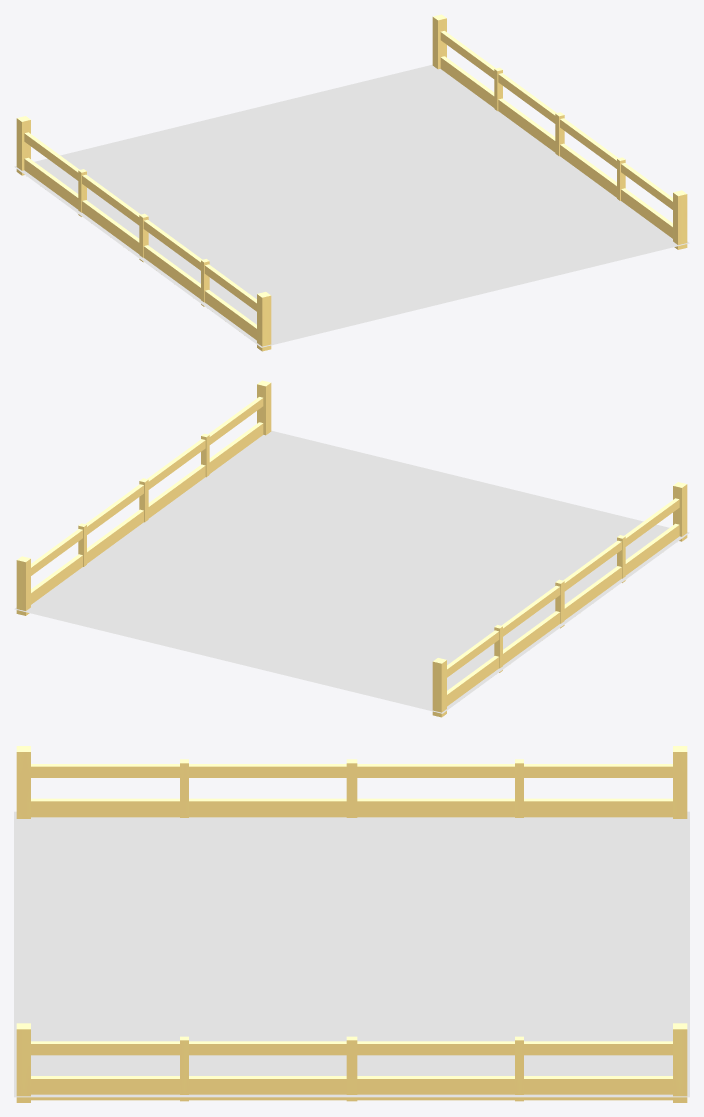
The model's file is tile_for_home_1x1.016.glb.
3 views of the same model, one above another, from view 1: azimuth 30°, elevation 25°; view 2: azimuth 150°, elevation 25°; view 3: azimuth 270°, elevation 25° (orthographic). The views are drawn at different scales.
Parts seen in each view (by area): view 1: tile_for_home_1x1.016(Clone); view 2: tile_for_home_1x1.016(Clone); view 3: tile_for_home_1x1.016(Clone).
Boxes of the visible parts, bbox=[...] form: tile_for_home_1x1.016(Clone): bbox=[14, 14, 689, 351]; tile_for_home_1x1.016(Clone): bbox=[14, 380, 689, 717]; tile_for_home_1x1.016(Clone): bbox=[14, 746, 689, 1102].
Bounding box in the file's own units: 8 × 0.959 × 8.
Materials: 1 (1 with a texture image).
